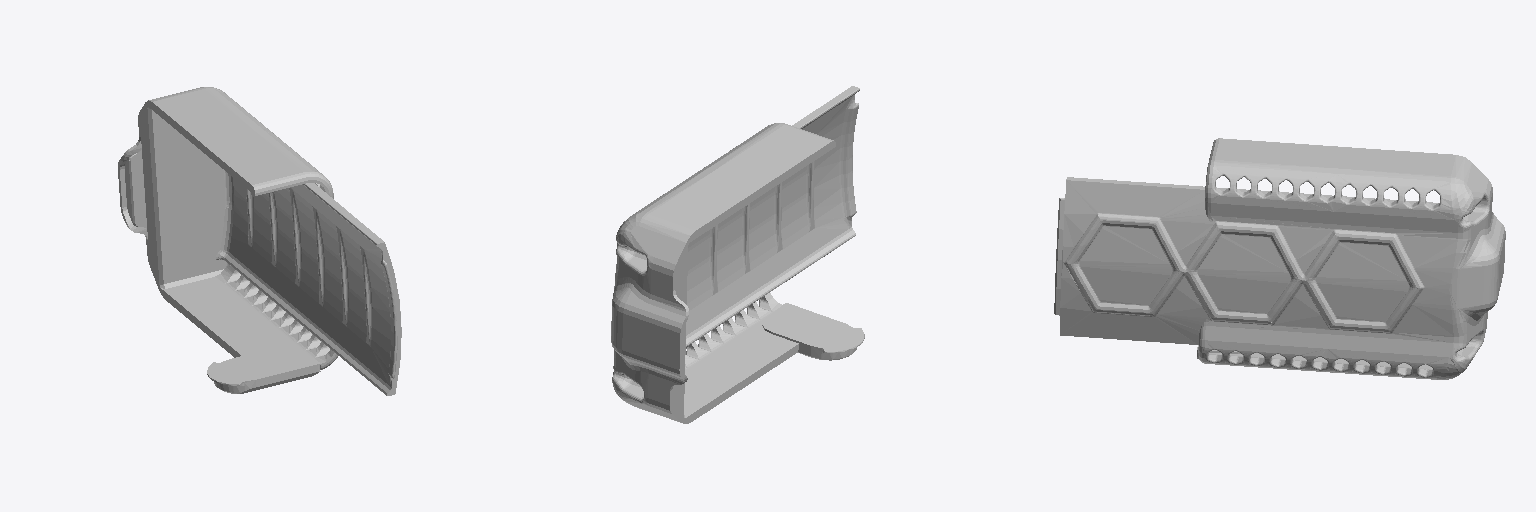
File: converted_r3_finger_cover_808080ff.obj
3 views of the same model, side by side, from view 1: azimuth 30°, elevation 25°; view 2: azimuth 150°, elevation 25°; view 3: azimuth 270°, elevation 25° (orthographic).
Bounding box in the file's own units: 0.0475 × 0.0693 × 0.1367.